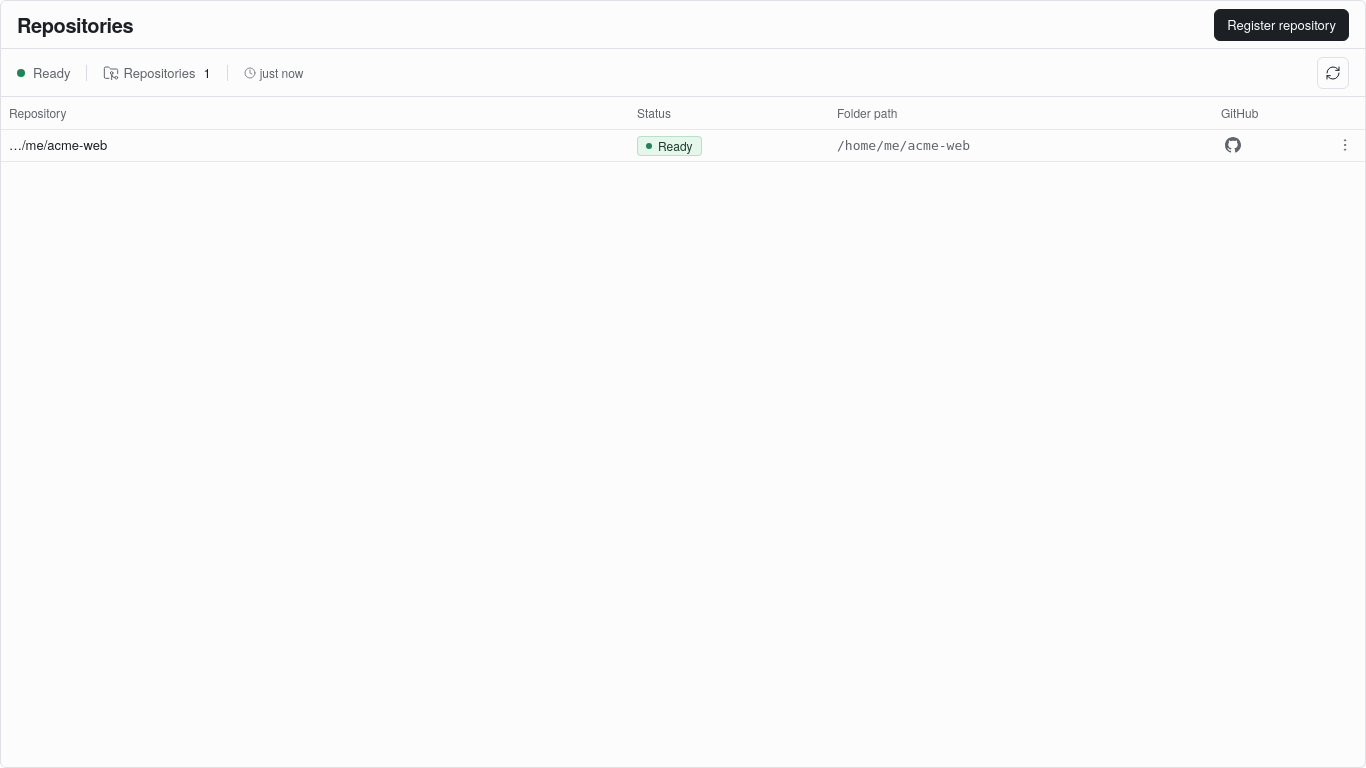
Test: Repositories — GitHub column › offers the same page in the row's menu, before Unregister
The width and height of the screenshot is (1366, 768).
Expected: the link is shown, x1=1225 y1=136 x2=1241 y2=152
Click the button named "Actions for …/me/acme-web": point(1345, 144) x1=1333 y1=132 x2=1357 y2=156
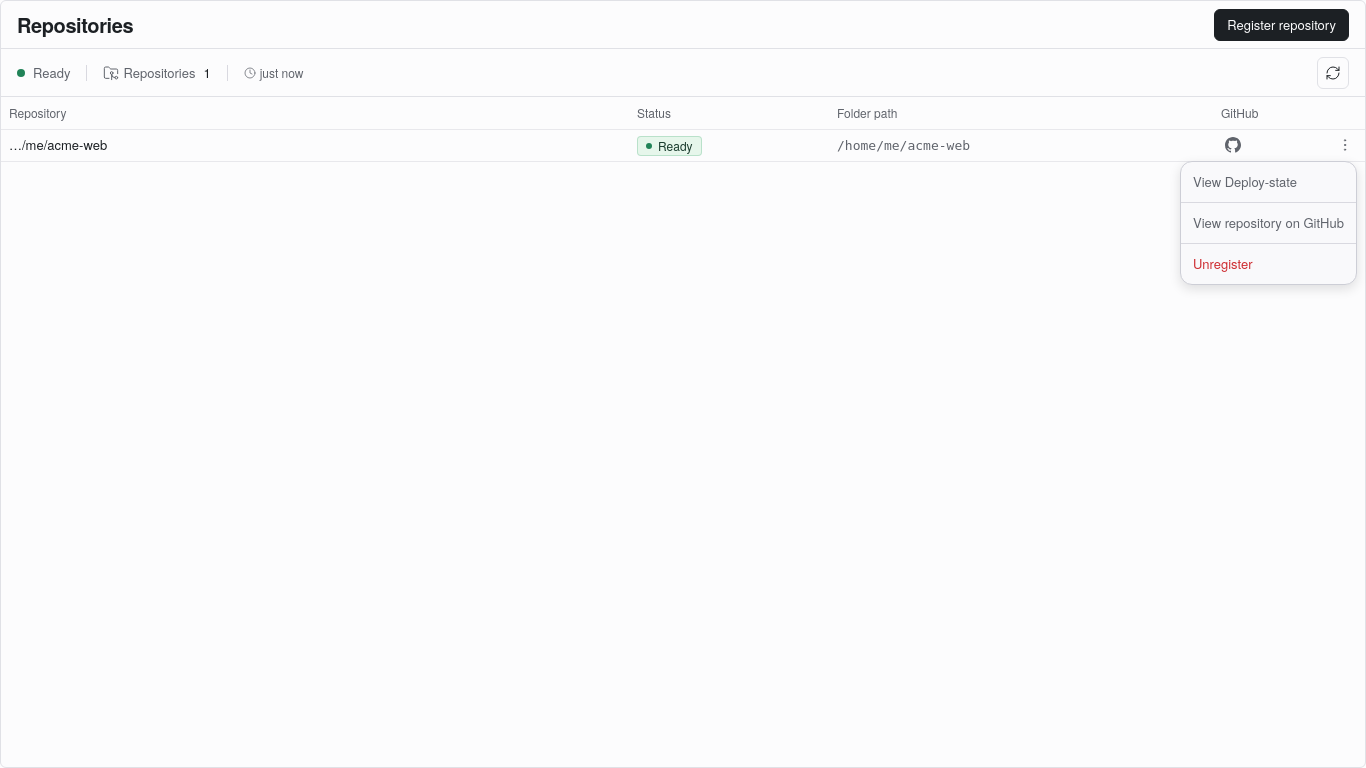
Expected: the menu items read "View Deploy-state", "View repository on GitHub", "Unregister", in this order, x1=1193 y1=172 x2=1297 y2=191; x1=1193 y1=213 x2=1344 y2=232; x1=1193 y1=254 x2=1252 y2=273
